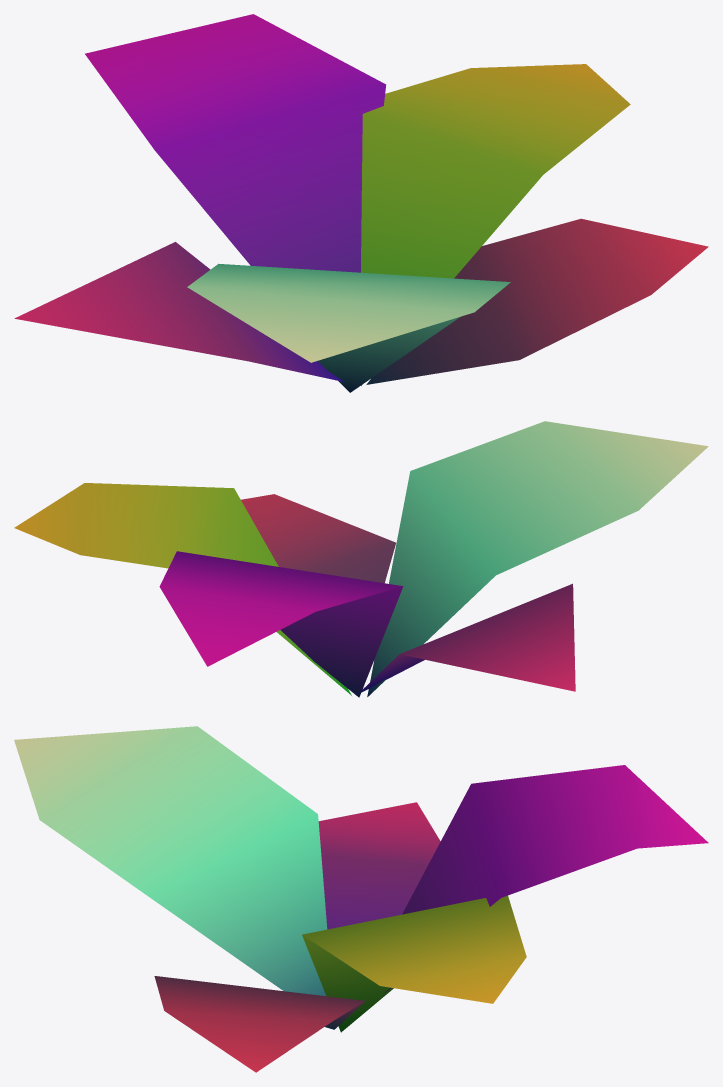
Rendered from Greater Burdock_LOD5_Var4_xh5pdgiqx.fbx.
3 views of the same model, one above another, from view 1: azimuth 30°, elevation 25°; view 2: azimuth 150°, elevation 25°; view 3: azimuth 270°, elevation 25° (orthographic). The views are drawn at different scales.
Visible parts, largest first — view 1: _qj1k_Var4_LOD5; view 2: _qj1k_Var4_LOD5; view 3: _qj1k_Var4_LOD5.
Boxes of the visible parts, x1,y1,x2,y2 form: _qj1k_Var4_LOD5: [14, 14, 708, 392]; _qj1k_Var4_LOD5: [14, 421, 708, 697]; _qj1k_Var4_LOD5: [14, 726, 708, 1072].
Size of the model in its own units: 40.28 by 15.33 by 44.35.
